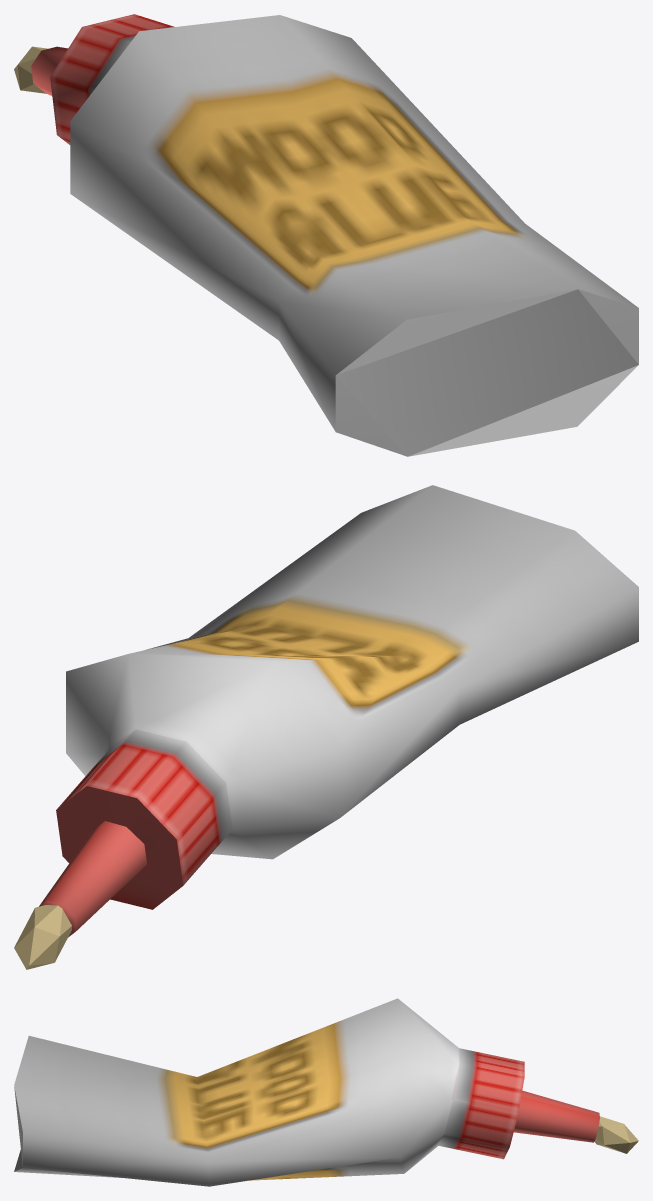
File: WoodGlueEmpty.fbx
3 renders of one model, top to bottom at view 1: azimuth 30°, elevation 25°; view 2: azimuth 150°, elevation 25°; view 3: azimuth 270°, elevation 25°, orthographic. The views are drawn at different scales.
Parts seen in each view (by area): view 1: WoodGlue; view 2: WoodGlue; view 3: WoodGlue.
Part boxes in pixels (<box>): WoodGlue: <box>14,14,638,456</box>; WoodGlue: <box>14,485,638,969</box>; WoodGlue: <box>14,998,638,1186</box>.
Bounding box in the file's own units: 15.8 × 9.54 × 40.9.
